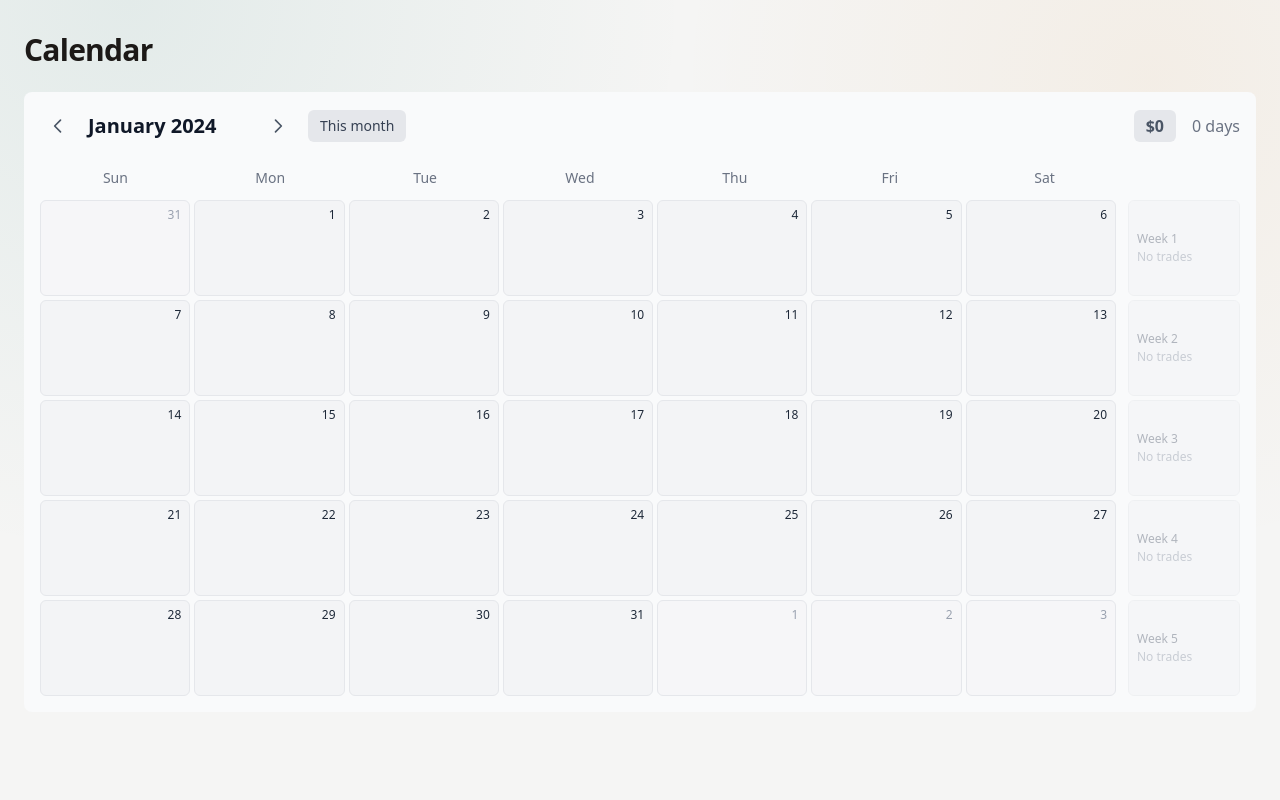
Test: CalendarView › navigation › navigates to next month
The image size is (1280, 800).
Click the button named "Next month".
click(278, 126)  # box [260,108,296,144]
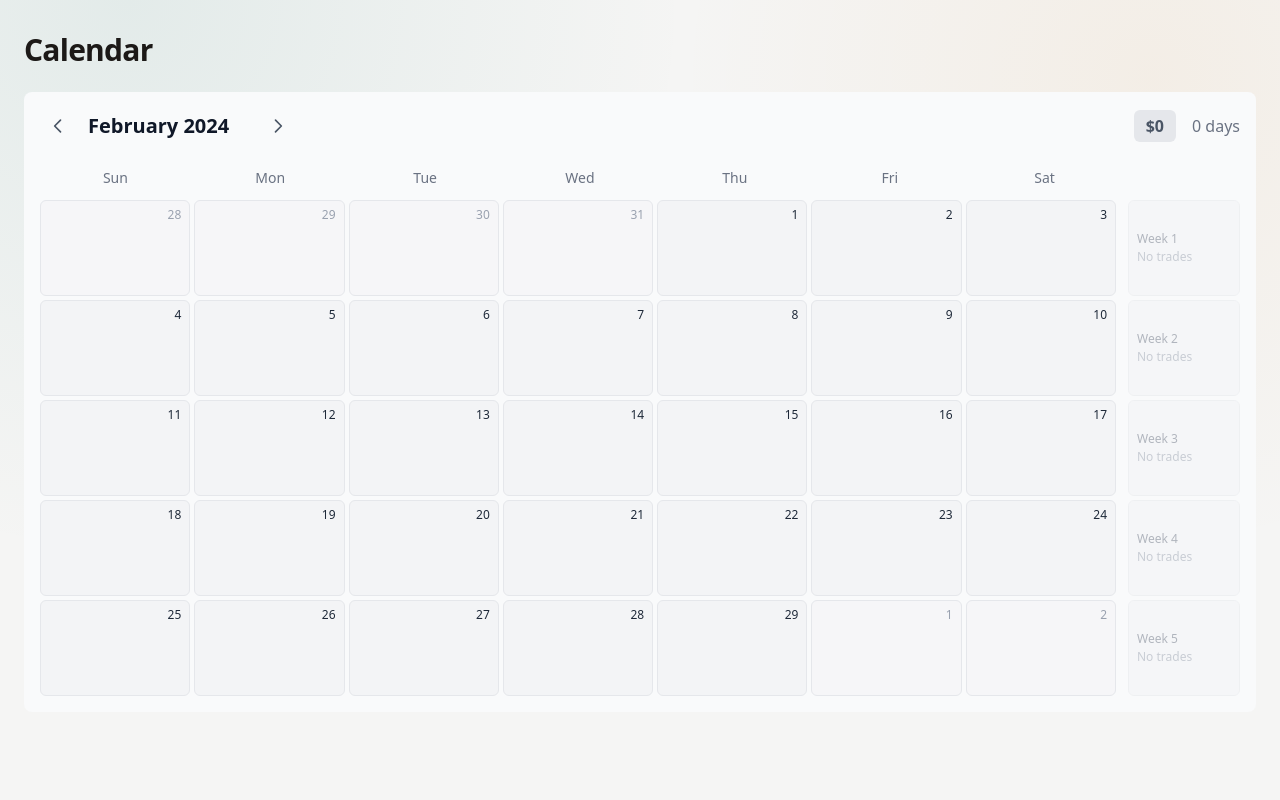
Expected: the heading "February 2024" is shown, [88,112,248,140]
